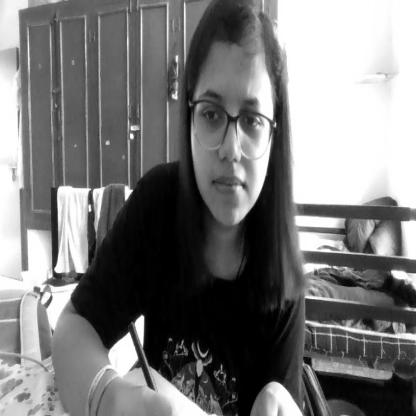Normal: (186, 0, 288, 239)
